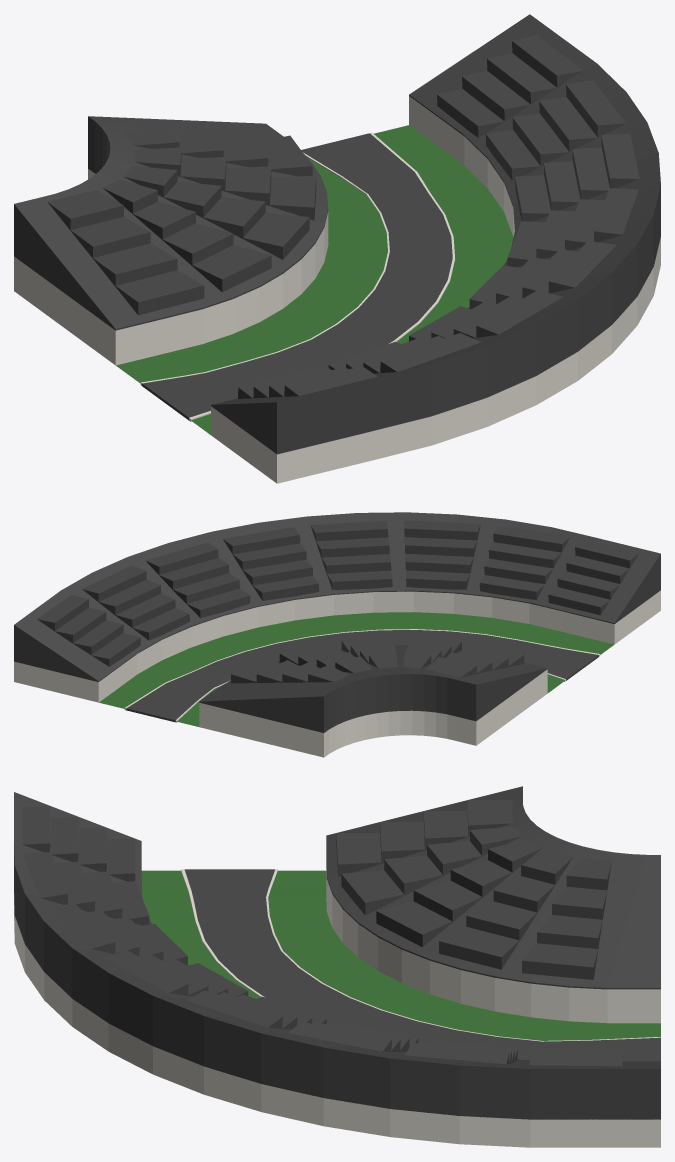
The model's file is LeftTrack.fbx.
3 renders of one model, top to bottom at view 1: azimuth 30°, elevation 25°; view 2: azimuth 150°, elevation 25°; view 3: azimuth 270°, elevation 25°, orthographic. The views are drawn at different scales.
Visible parts, largest first — view 1: outer_Seats, outer_Stadium, Left_Inner_Stadium.001, outer_Paltform, Left_Inner_platform, leftRoad, Left_Inner_Stadium; view 2: outer_Seats, outer_Paltform, outer_Stadium, Left_Inner_Stadium, Left_Inner_platform, leftRoad, Left_Inner_Stadium.001; view 3: outer_Stadium, Left_Inner_Stadium.001, Left_Inner_platform, outer_Seats, outer_Paltform, Left_Inner_Stadium, leftRoad.
Part boxes in pixels (x1=…): outer_Seats: x1=238, y1=35, x2=639, y2=398; outer_Stadium: x1=211, y1=14, x2=660, y2=454; Left_Inner_Stadium.001: x1=48, y1=125, x2=316, y2=315; outer_Paltform: x1=191, y1=96, x2=660, y2=483; Left_Inner_platform: x1=14, y1=160, x2=387, y2=383; leftRoad: x1=140, y1=132, x2=455, y2=421; Left_Inner_Stadium: x1=14, y1=116, x2=328, y2=330; outer_Seats: x1=37, y1=520, x2=638, y2=666; outer_Paltform: x1=14, y1=590, x2=660, y2=708; outer_Stadium: x1=14, y1=512, x2=660, y2=681; Left_Inner_Stadium: x1=199, y1=645, x2=547, y2=732; Left_Inner_platform: x1=177, y1=669, x2=564, y2=757; leftRoad: x1=124, y1=629, x2=600, y2=722; Left_Inner_Stadium.001: x1=231, y1=637, x2=524, y2=683; outer_Stadium: x1=14, y1=792, x2=660, y2=1119; Left_Inner_Stadium.001: x1=336, y1=800, x2=611, y2=979; Left_Inner_platform: x1=268, y1=868, x2=660, y2=1040; outer_Seats: x1=22, y1=806, x2=622, y2=1066; outer_Paltform: x1=14, y1=870, x2=660, y2=1147; Left_Inner_Stadium: x1=326, y1=786, x2=660, y2=989; leftRoad: x1=181, y1=869, x2=660, y2=1061.
Bounding box in the file's own units: 42268 × 6105 × 41704.
